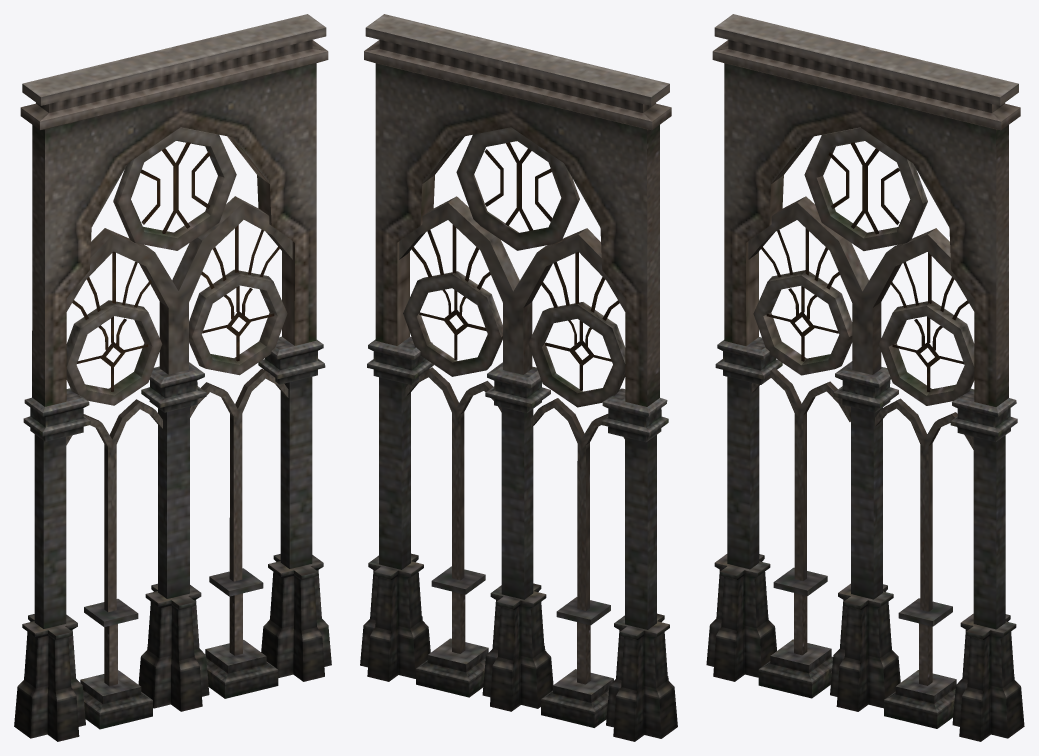
File: SM_zhucheng_baiqiang02.FBX
3 renders of one model, left to right at view 1: azimuth 30°, elevation 25°; view 2: azimuth 150°, elevation 25°; view 3: azimuth 330°, elevation 25°, orthographic.
Parts seen in each view (by area): view 1: SM_zhucheng_baiqiang02; view 2: SM_zhucheng_baiqiang02; view 3: SM_zhucheng_baiqiang02.
Boxes of the visible parts, x1,y1,x2,y2 form: SM_zhucheng_baiqiang02: (14,14,331,741); SM_zhucheng_baiqiang02: (360,14,677,741); SM_zhucheng_baiqiang02: (706,14,1024,741).
Size of the model in its own units: 169 by 344 by 35.32.
